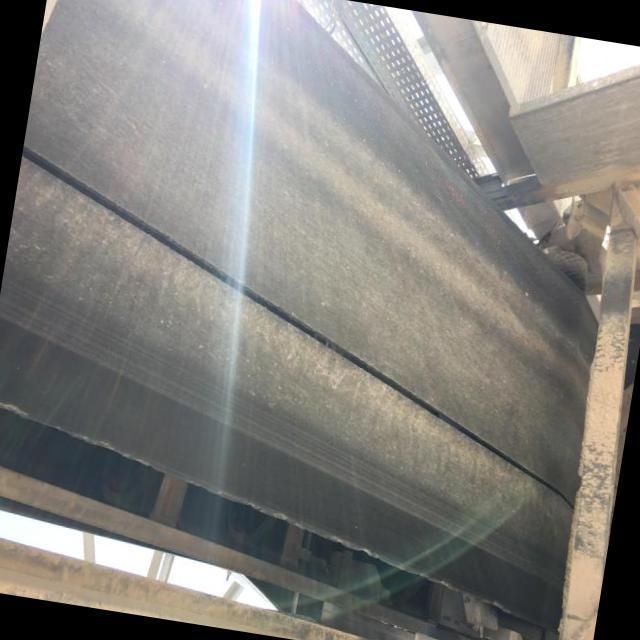Tear: (20, 145, 580, 513)
